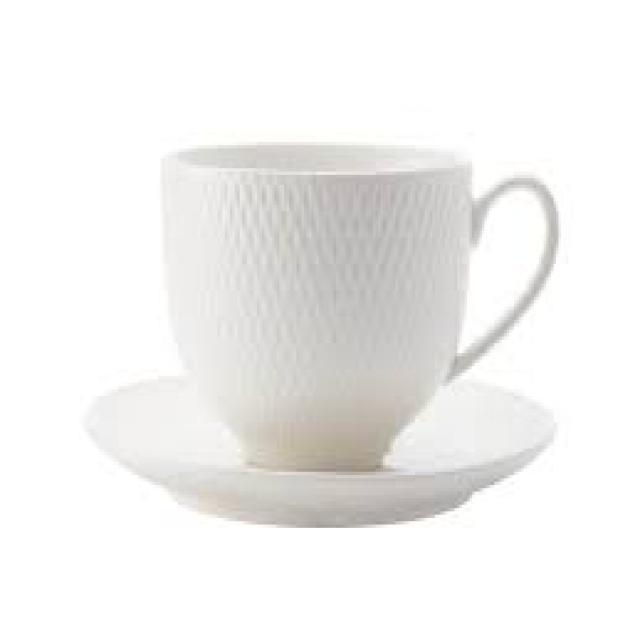taza: (126, 140, 560, 480)
